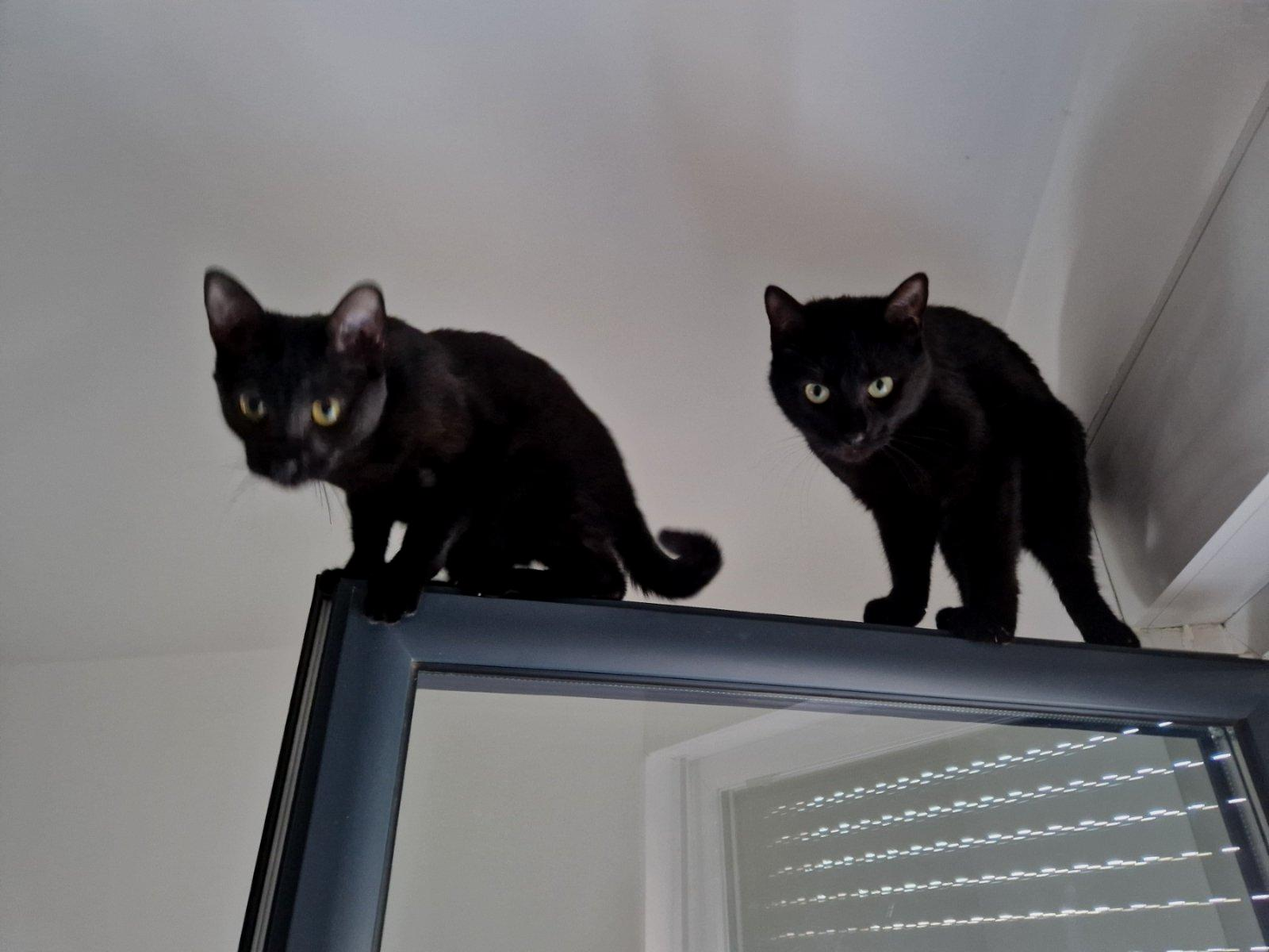macka: (198, 266, 723, 619), (763, 267, 1148, 654)
